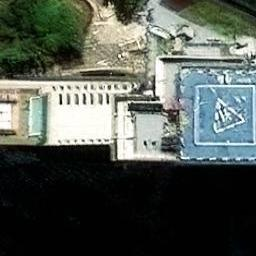heliponto: (196, 86, 254, 144)
